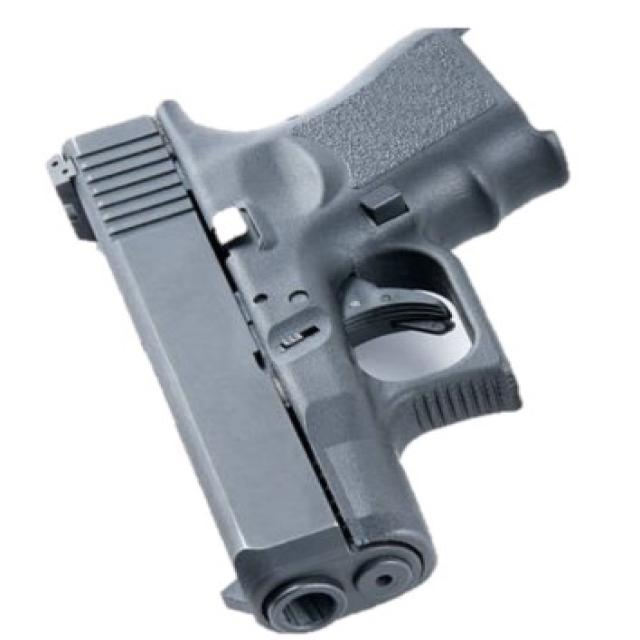pistol: (40, 15, 587, 640)
